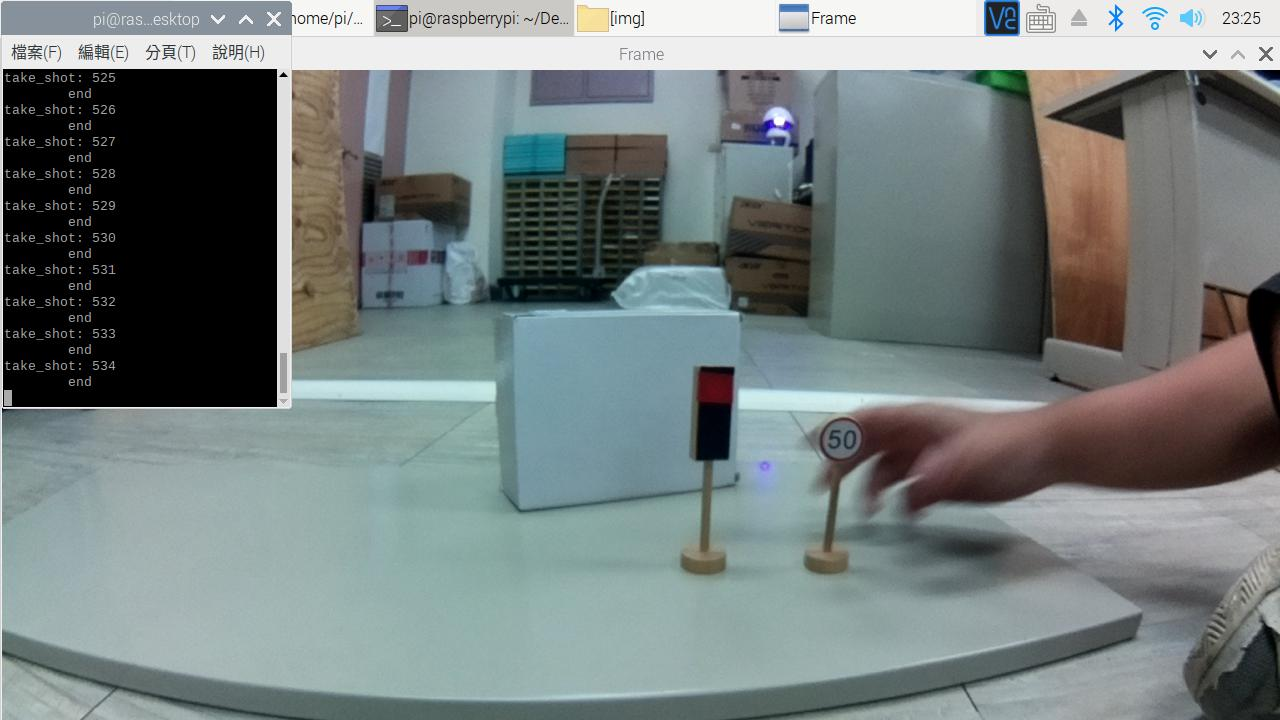Red: (678, 359, 747, 487)
Speed50: (818, 412, 876, 470)
